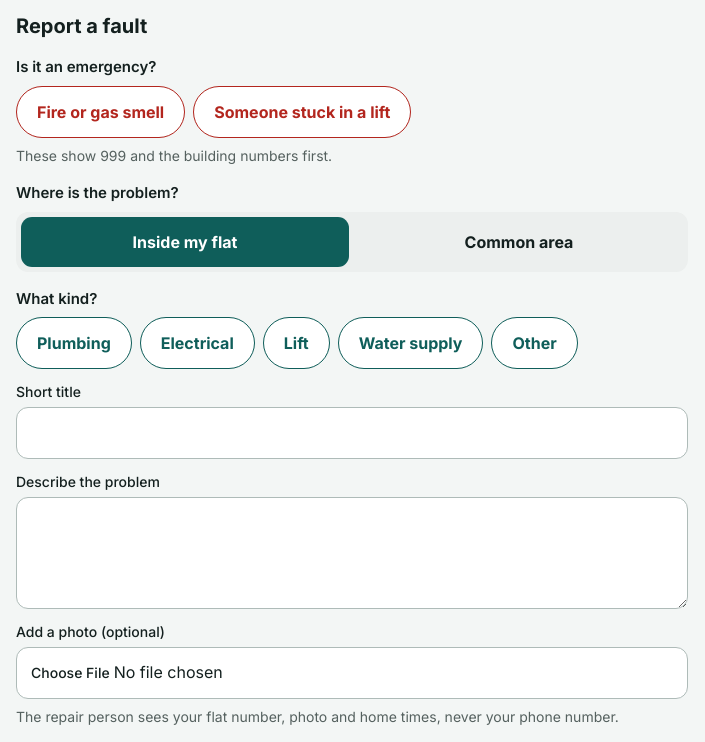
Scenario: ReportFaultForm: emergency path › closes the 999 panel without logging anything
Click the button "Someone stuck in a lift". click: [302, 112]
box: top-left (193, 86), bottom-right (411, 138)
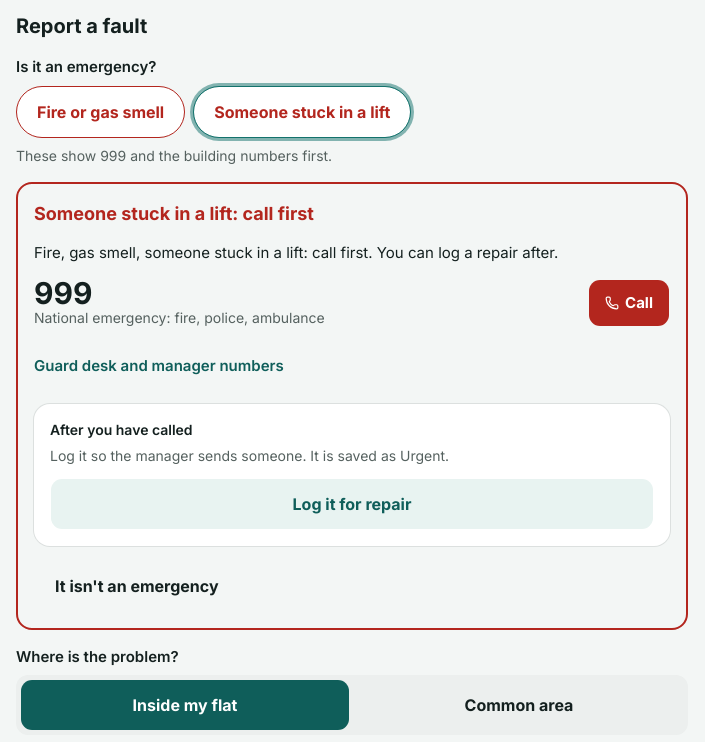
Click the button "It isn't an emergency". click: [137, 586]
box: top-left (34, 560), bottom-right (240, 612)
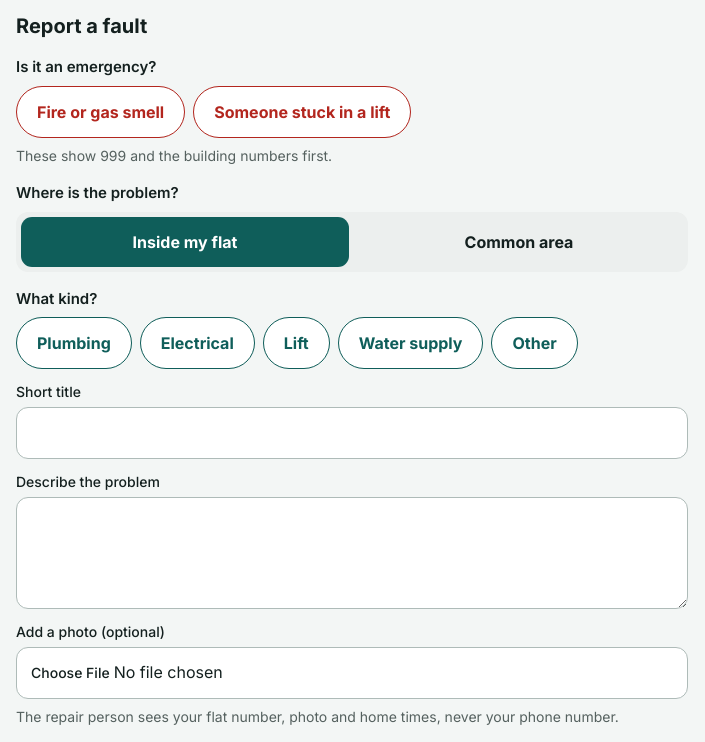
Expected: the text "Emergency:" is not shown
Expected: the heading "call first" is gone
